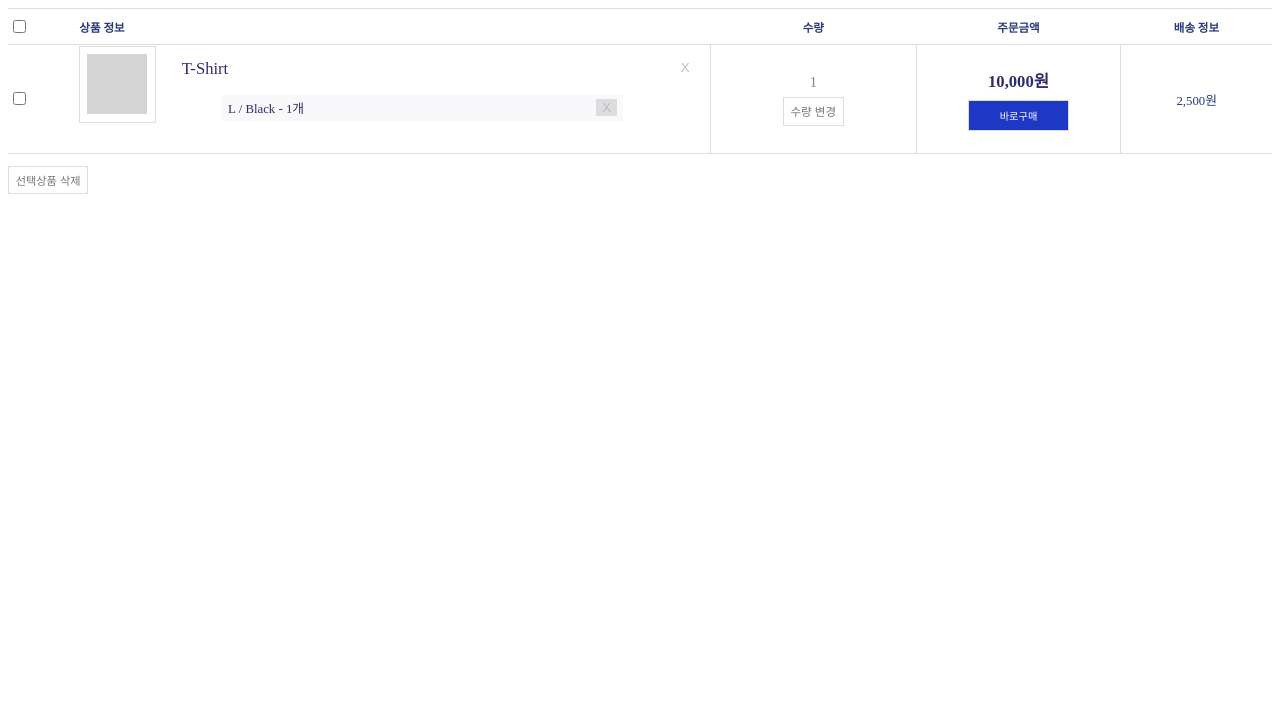
Scenario: CartItem › 수량 변경 버튼 › 수량 변경 › 수량을 직접 변경시키는 경우 › 아이템의 수량이 입력된 숫자만큼 변경된 것을 볼 수 있다
The width and height of the screenshot is (1280, 720).
Expected: the text "1" is shown, [809,73,817,91]
Expected: the text "10,000원" is shown, [988,68,1049,92]
Click the button "수량 변경".
click(813, 111)  # box [783,97,844,126]
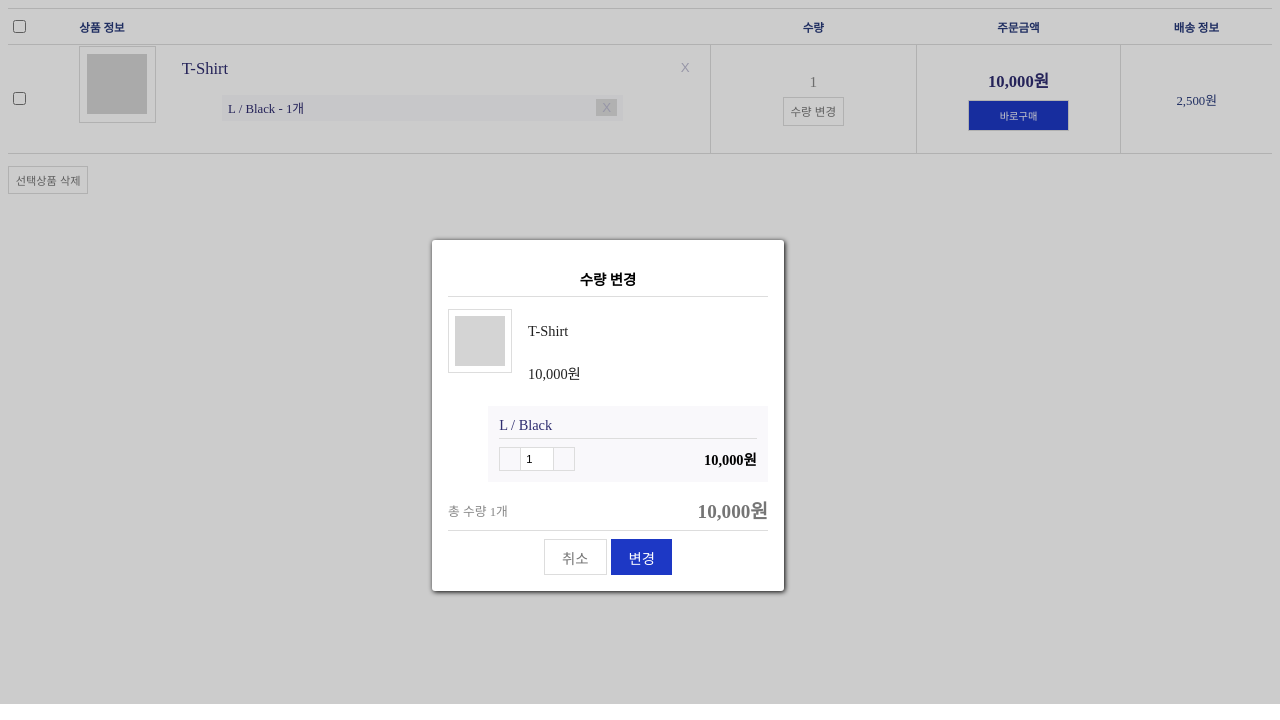
Replace the text in the number field labelled "L / Black" with "10" at (537, 459), box [520,448,554,470]
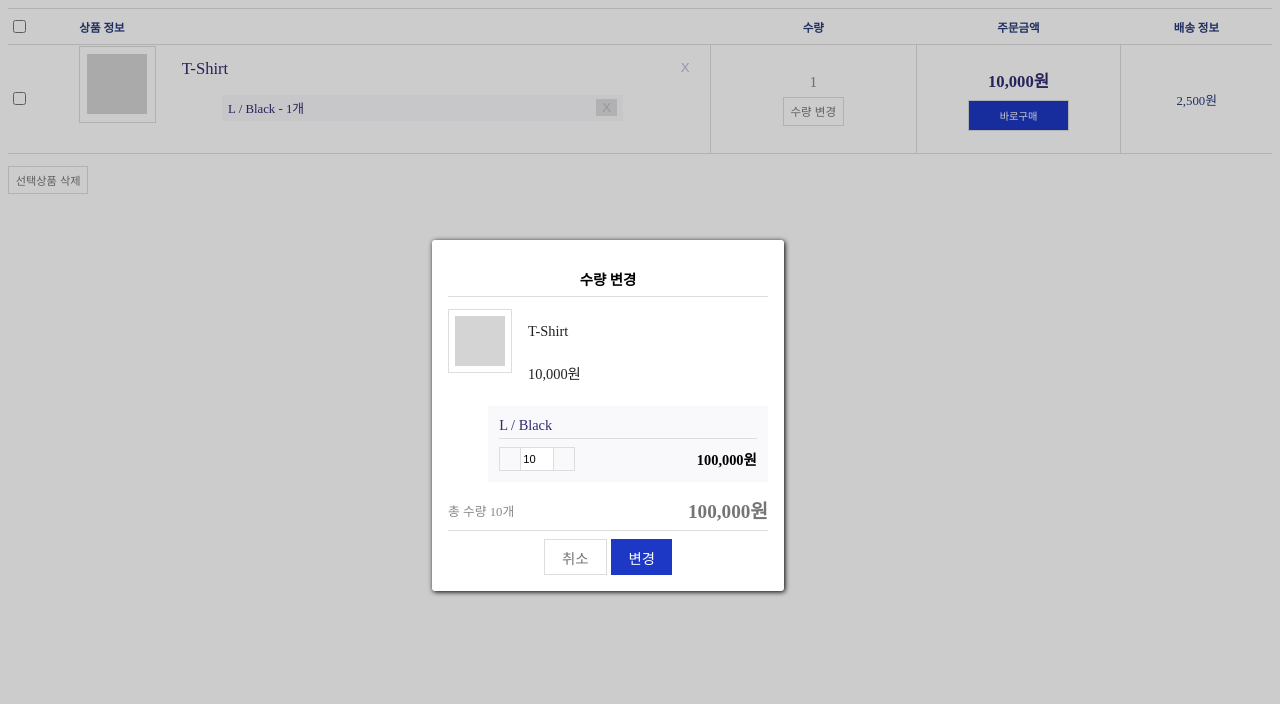
Click the button "변경".
click(642, 557)  # box [611,539,672,575]
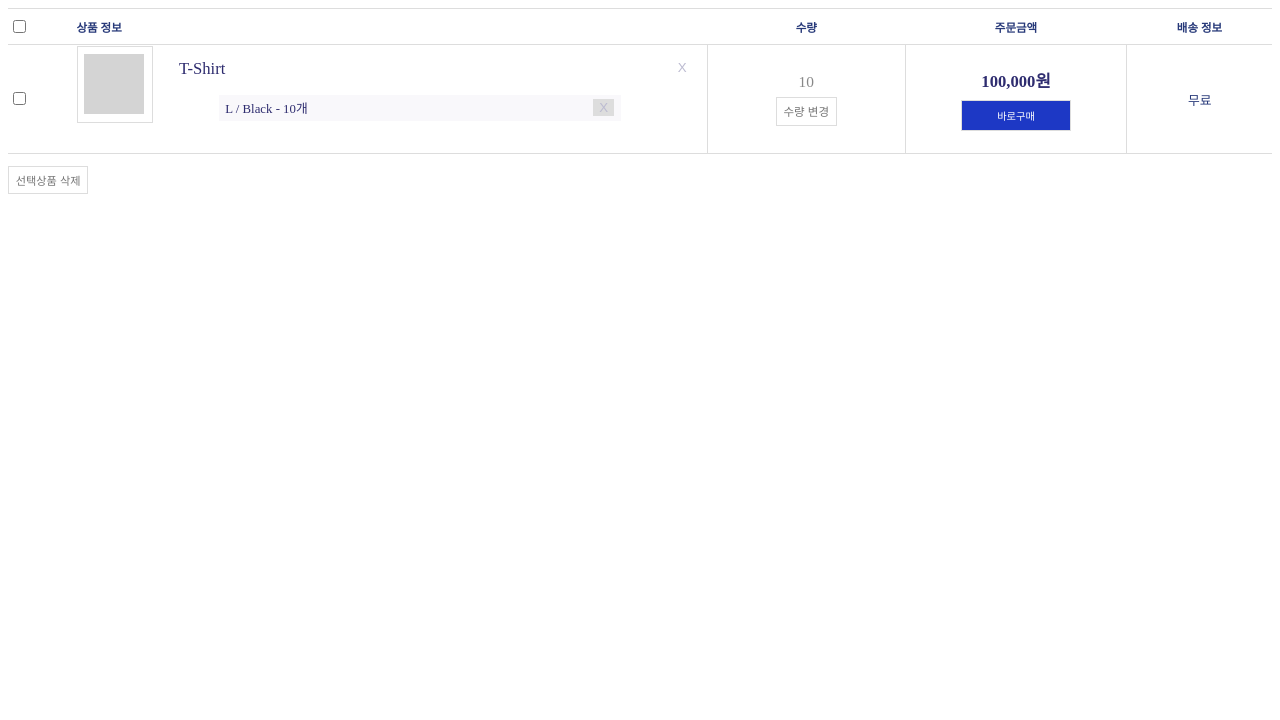
Now the text "10" is shown, box [799,73,814,91]
Now the text "100,000원" is shown, box [981,68,1051,92]
